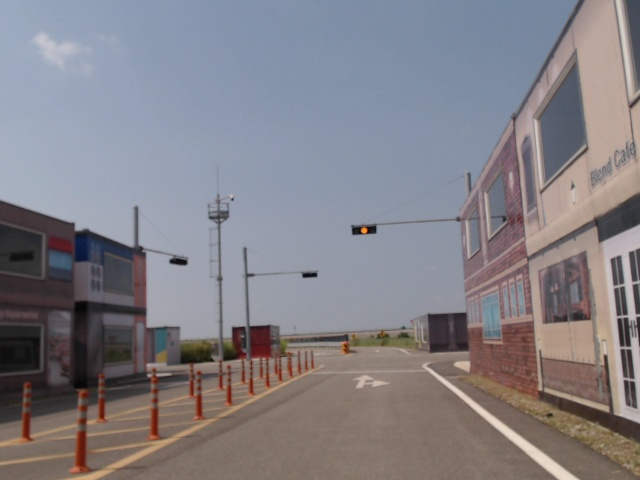orange_3: (352, 225, 379, 236)
